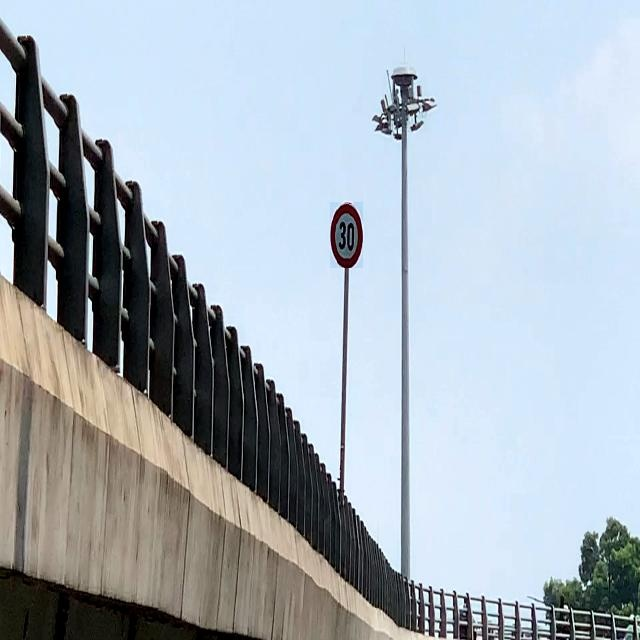bien_cam: (330, 202, 363, 268)
